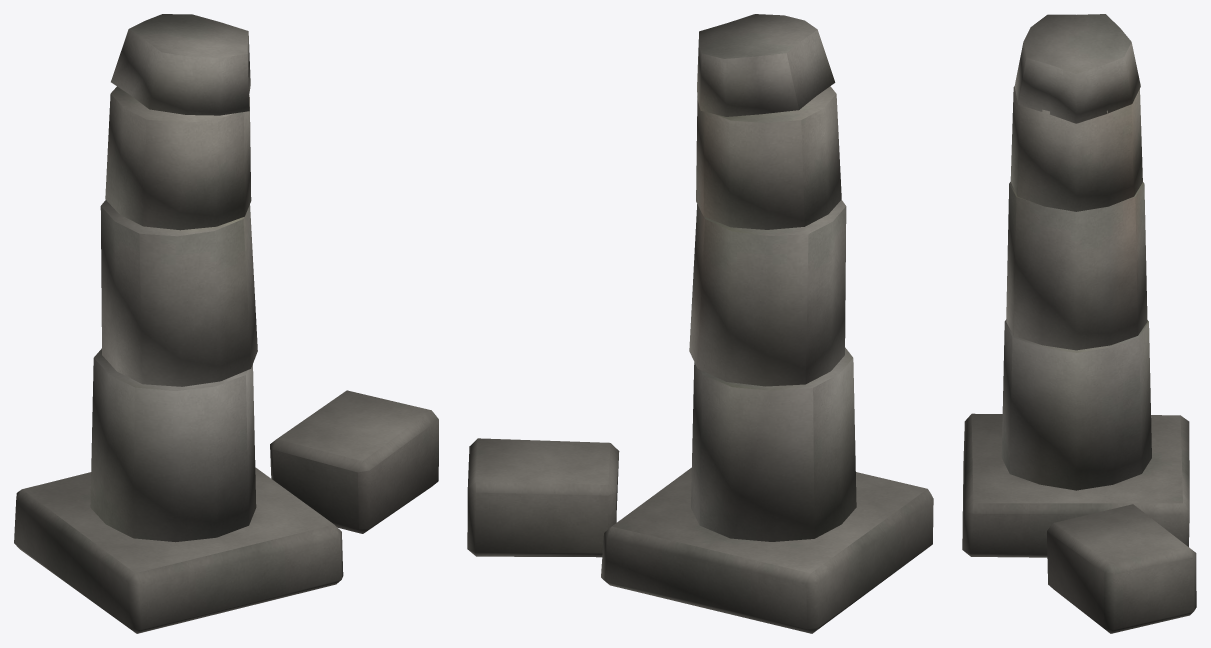
The model's file is ruin_column.glb.
The picture shows the model from 3 angles, left to right: view 1: azimuth 30°, elevation 25°; view 2: azimuth 150°, elevation 25°; view 3: azimuth 270°, elevation 25°; orthographic projection. The views are drawn at different scales.
Visible parts, largest first — view 1: ruin_column; view 2: ruin_column; view 3: ruin_column.
Part boxes in pixels (<box>): ruin_column: <box>14,14,438,633</box>; ruin_column: <box>467,14,933,633</box>; ruin_column: <box>962,14,1196,633</box>.
Size of the model in its own units: 2.69 by 3.56 by 1.56.
1 material, 1 textured.
